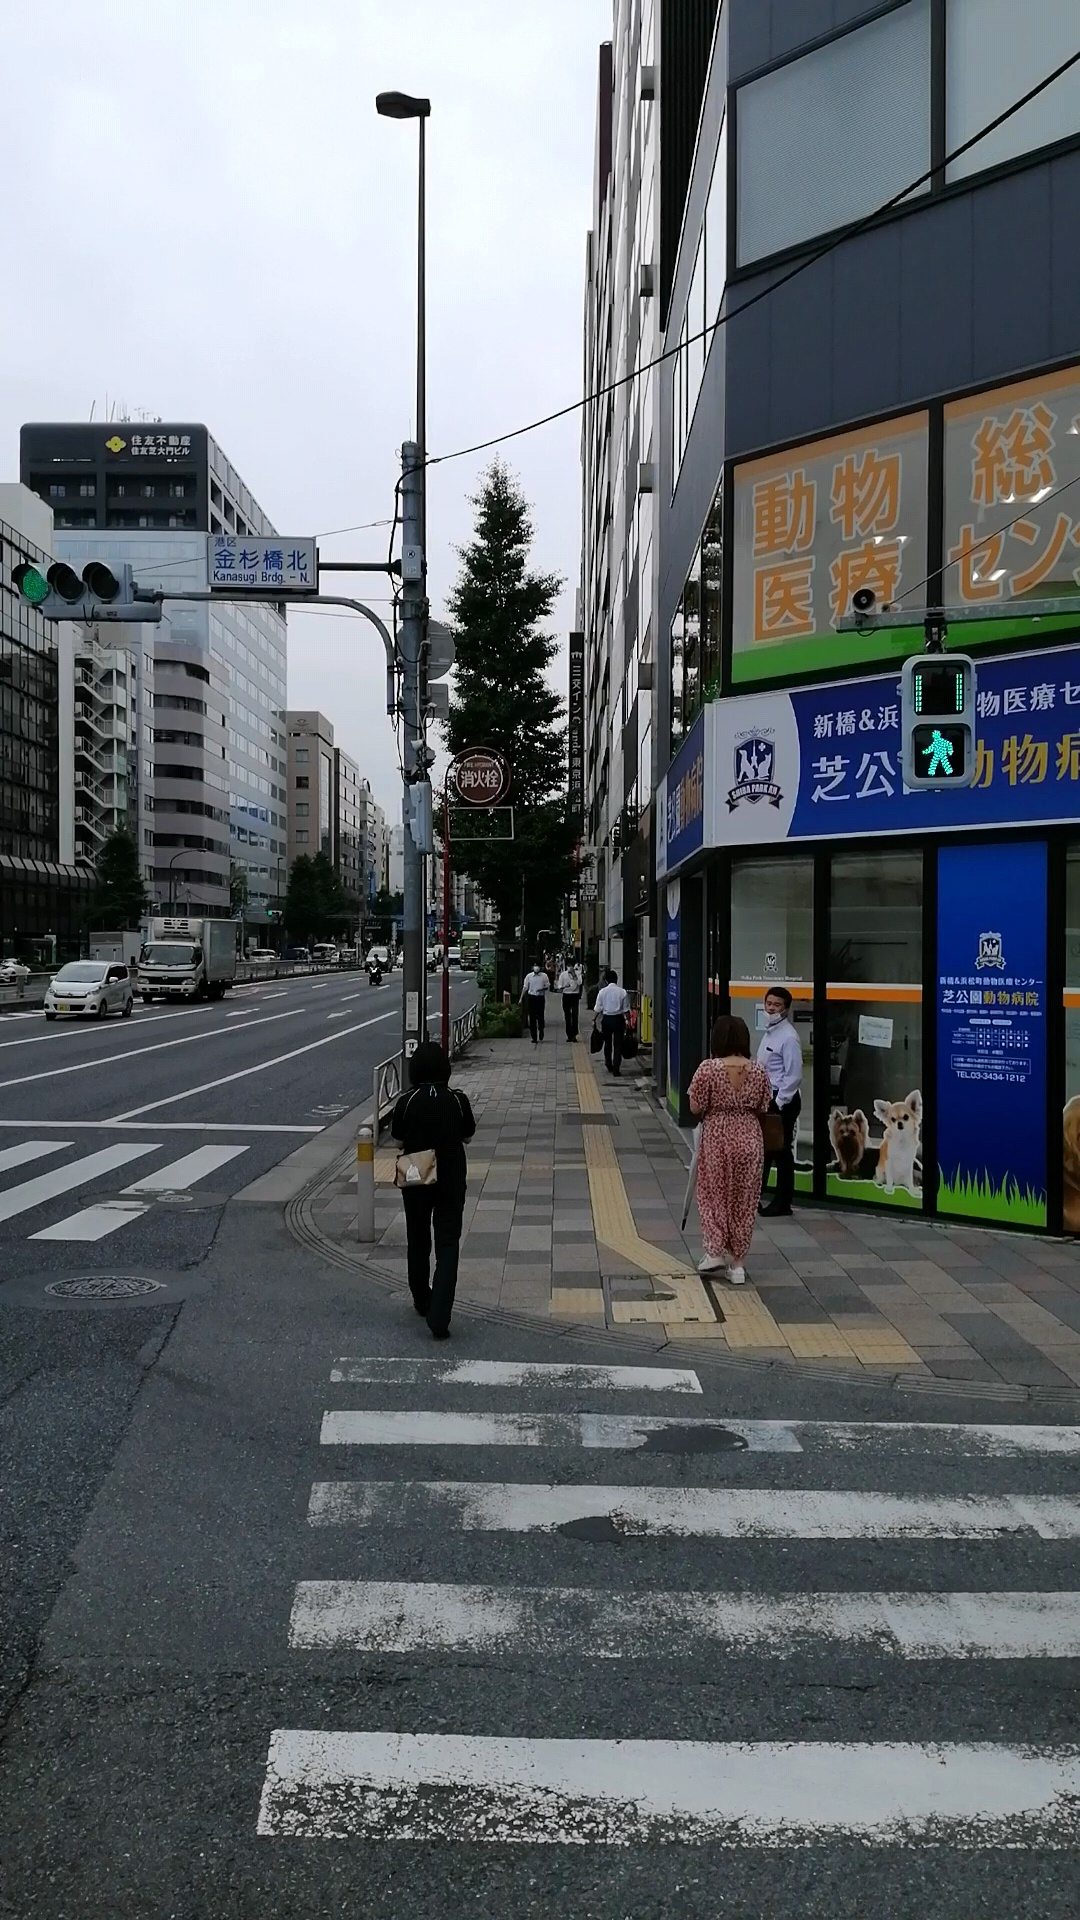green: (901, 651, 975, 795)
